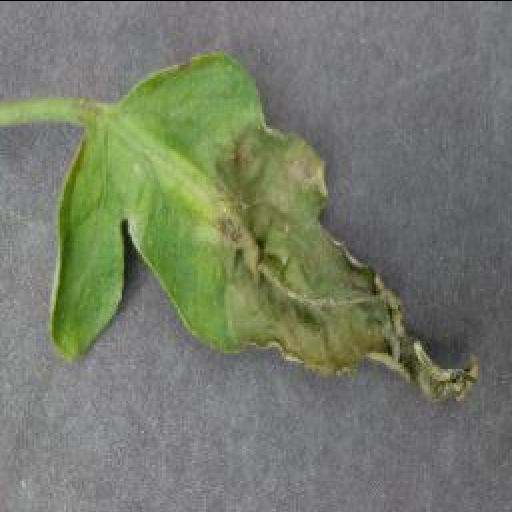disease_tomato: (42, 50, 482, 402)
